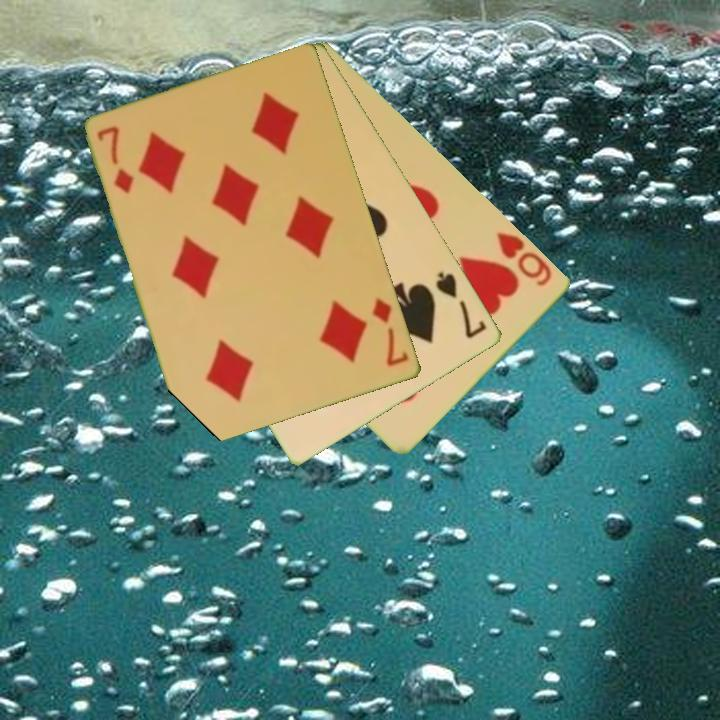6h: (493, 228, 555, 289)
7d: (94, 122, 138, 197), (369, 294, 412, 370)
7s: (432, 268, 490, 342)
